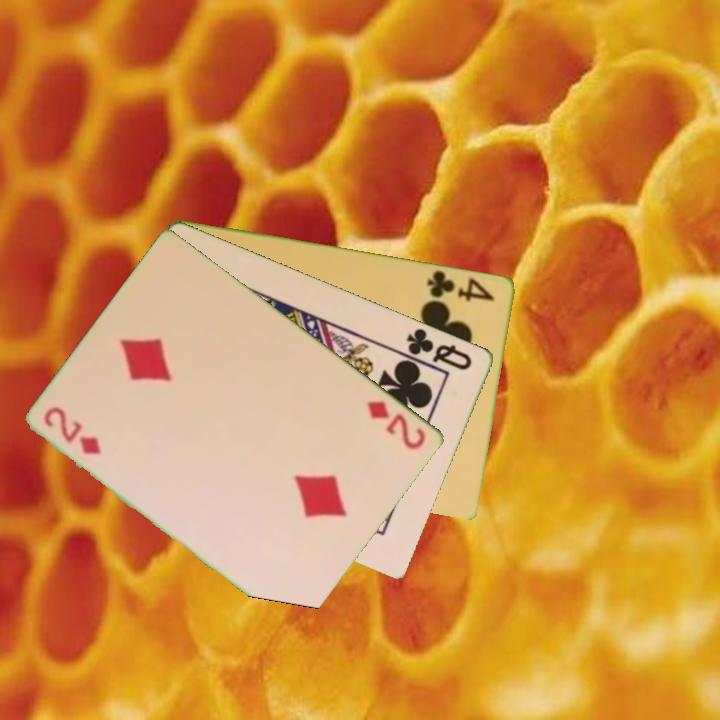2d: (364, 397, 429, 453), (41, 403, 105, 458)
4c: (424, 266, 497, 304)
Qc: (396, 324, 476, 375)
